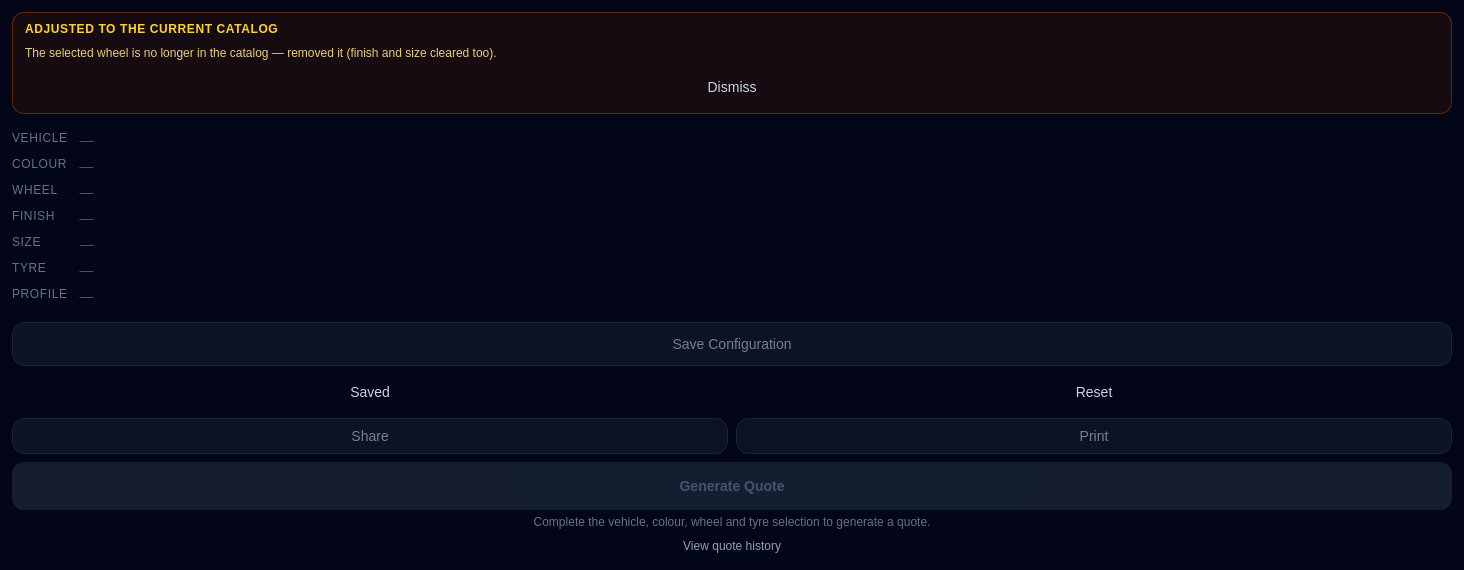
Test: ConfigurationSummary › surfaces reconciliation adjustments inline until dismissed
expect the text "Adjusted to the current catalog" is shown: met, box [25,22,278,36]
expect the list item "no longer in the catalog" is shown: met, box [25,46,497,60]
Step 1. Click the button "Dismiss" → (732, 87), box [25,69,1439,105]
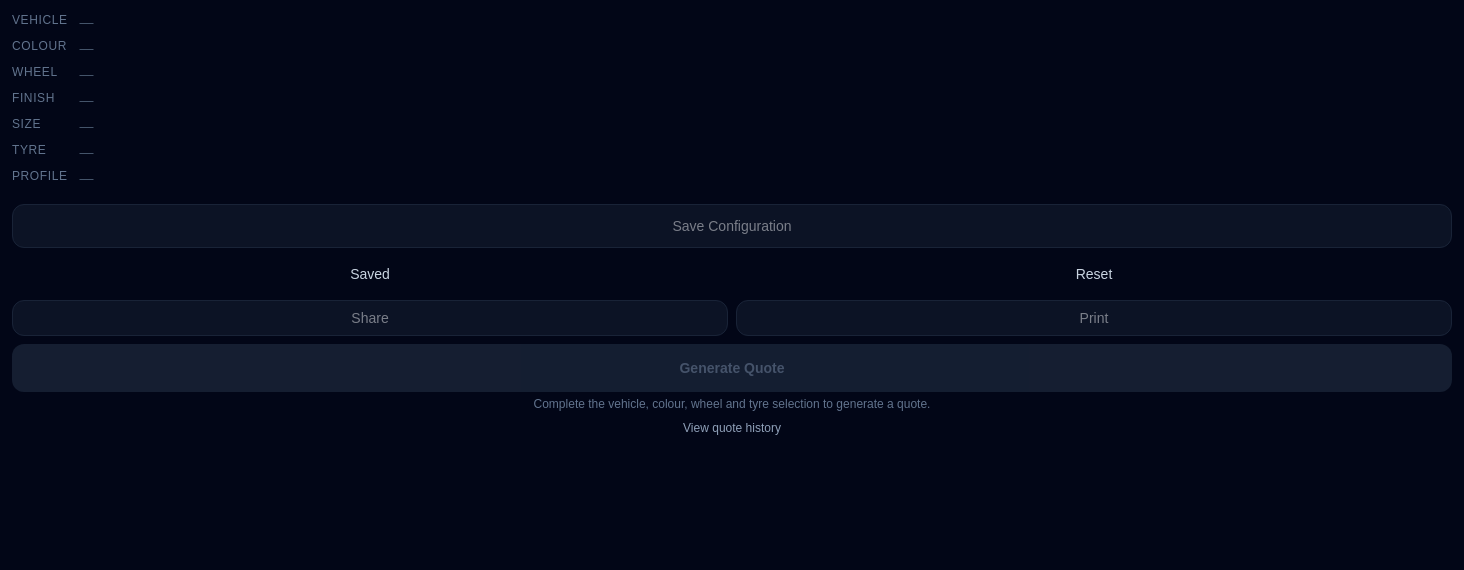
expect the text "Adjusted to the current catalog" is gone: met
